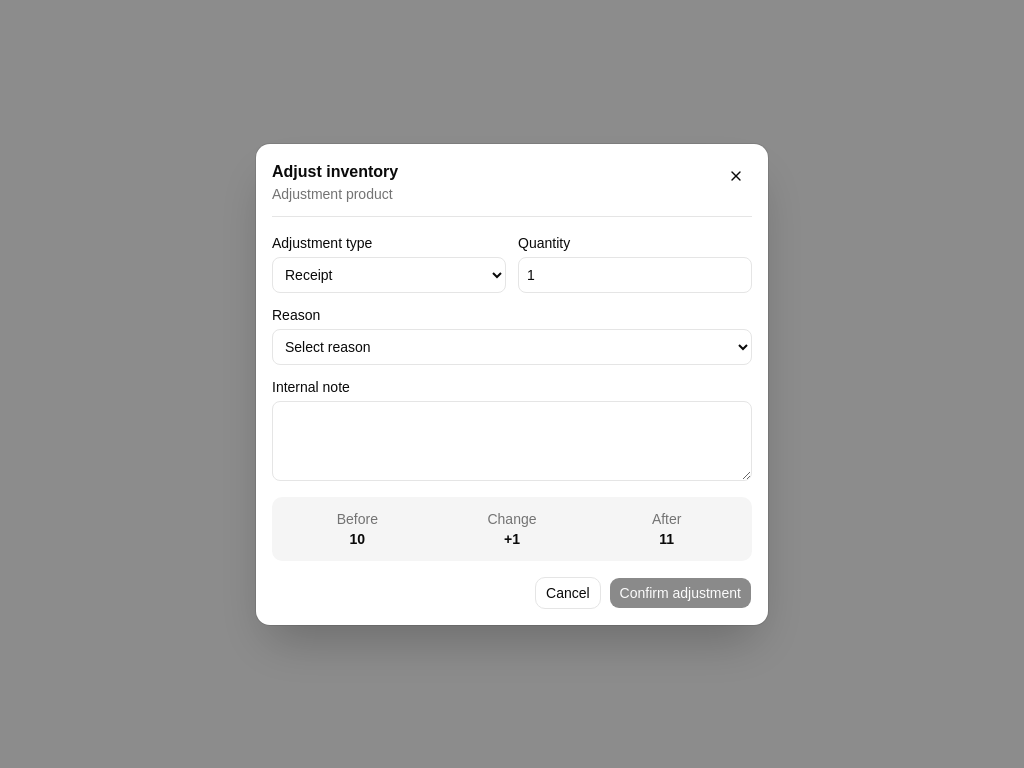
Test case: inventory pages › keeps the dialog open and reports repository failures
Select "Purchase receipt" in the dropdown labelled "Reason" at (512, 346), box [272,328,752,364]
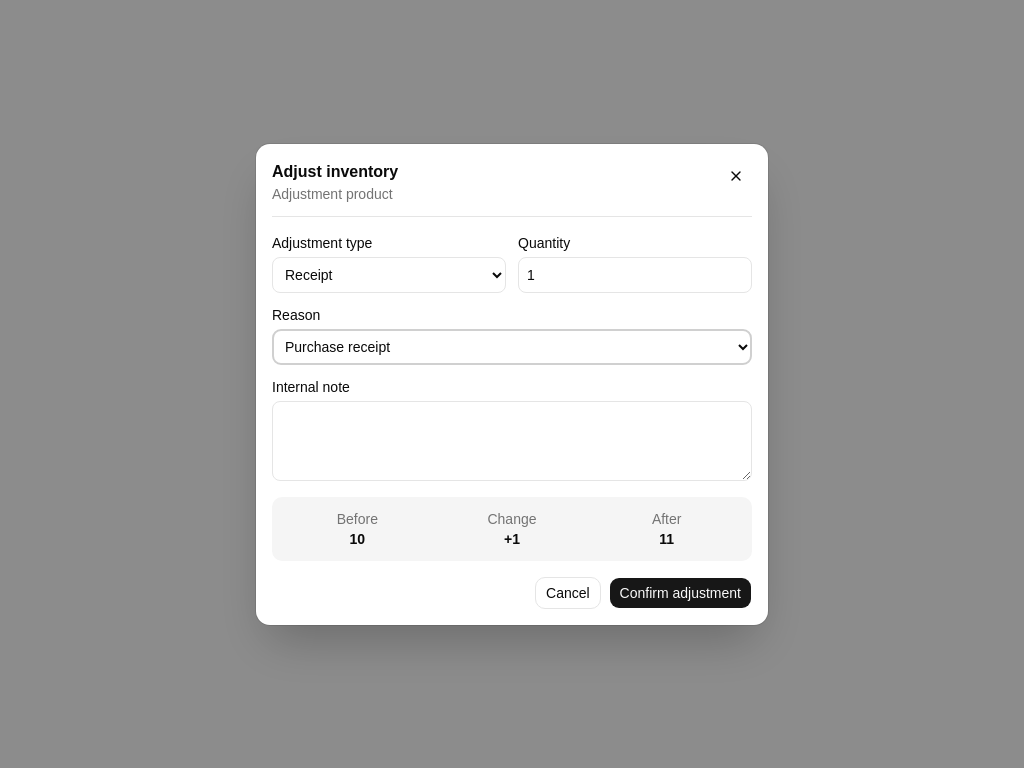
Click the button "Confirm adjustment".
click(680, 592)  # box [609,576,752,608]
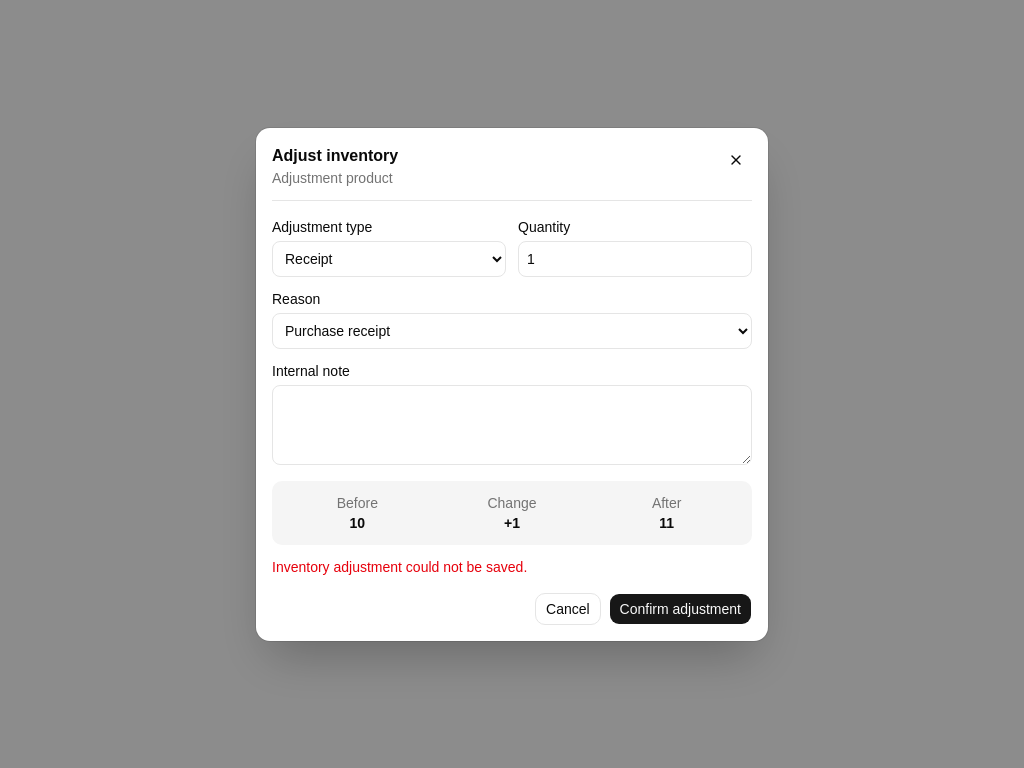
Expected: the text "Inventory adjustment could not be saved." is shown, [272,558,527,574]
